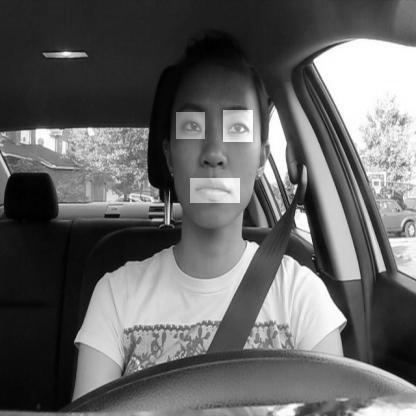seatbelt: (146, 23, 285, 350)
